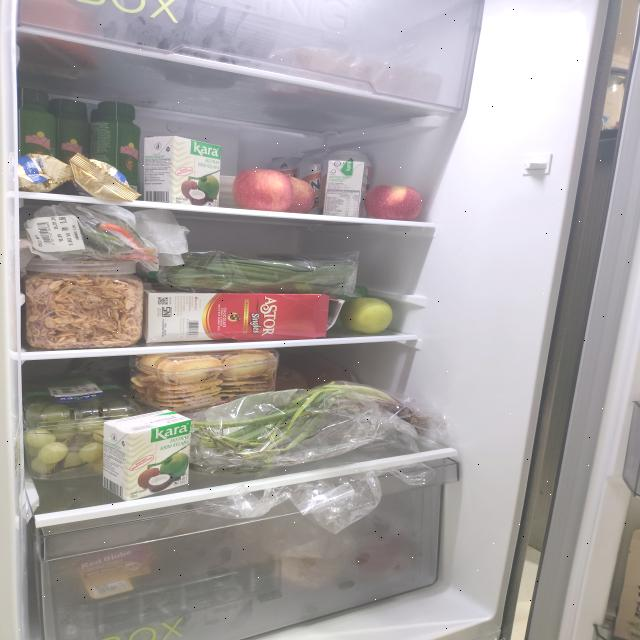apple: (232, 168, 316, 214), (364, 184, 422, 222)
chili: (81, 205, 159, 262)
coconut_milk: (102, 409, 192, 501), (144, 136, 222, 208), (322, 160, 368, 218)
grape: (24, 396, 132, 474)
leafy_greens: (166, 252, 358, 296)
spring_onion: (192, 381, 428, 475)
